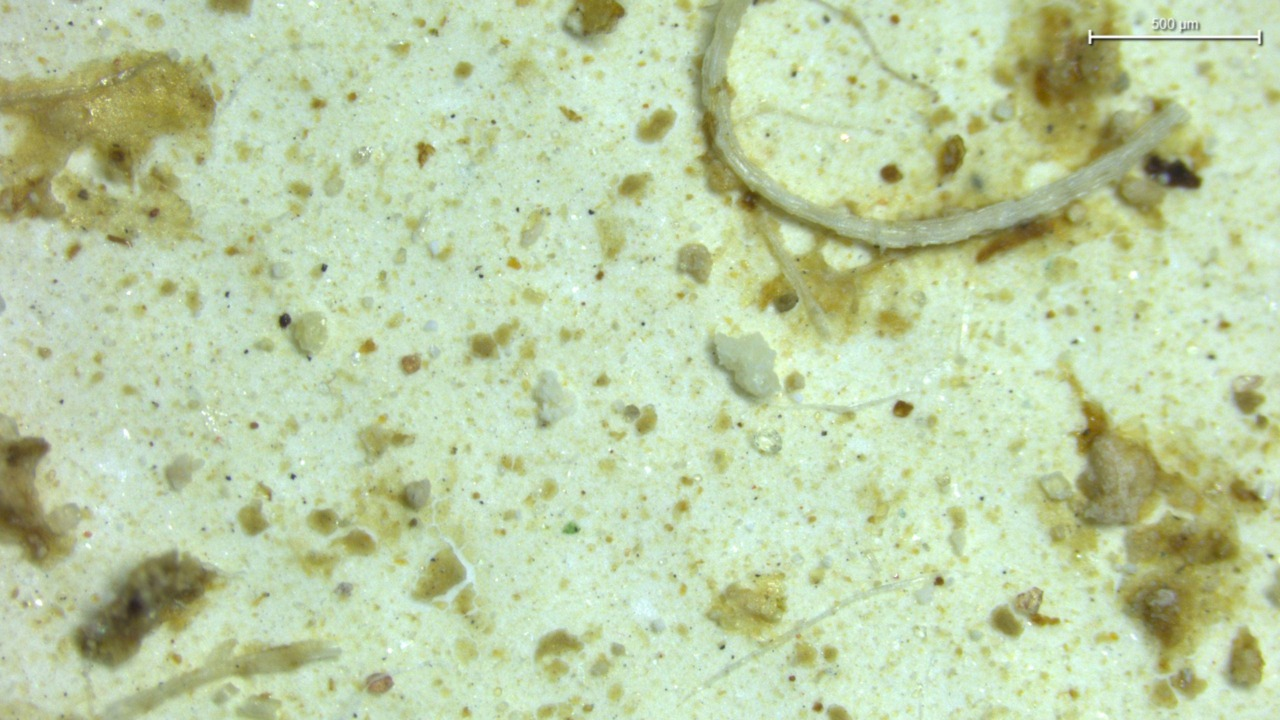microplastic_fragment: (714, 331, 781, 400), (531, 371, 575, 426), (288, 312, 327, 357), (676, 243, 712, 283), (405, 479, 431, 509)
